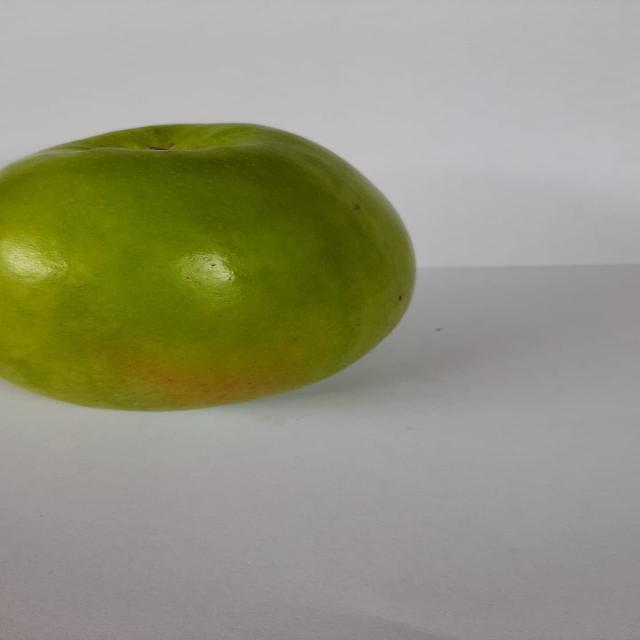50-_ripeness: (4, 107, 424, 419)
